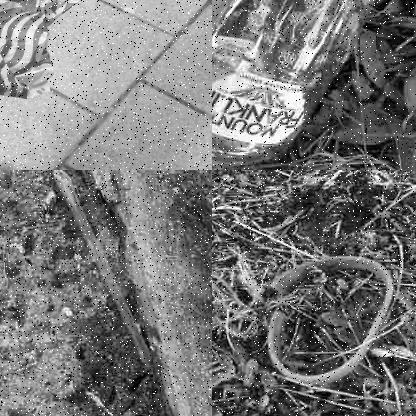plastic: (212, 0, 415, 169), (264, 251, 393, 383), (0, 0, 100, 100)
